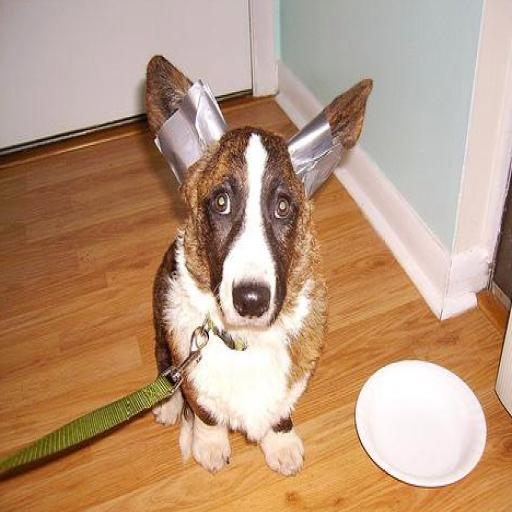dog_face: (148, 59, 370, 335)
